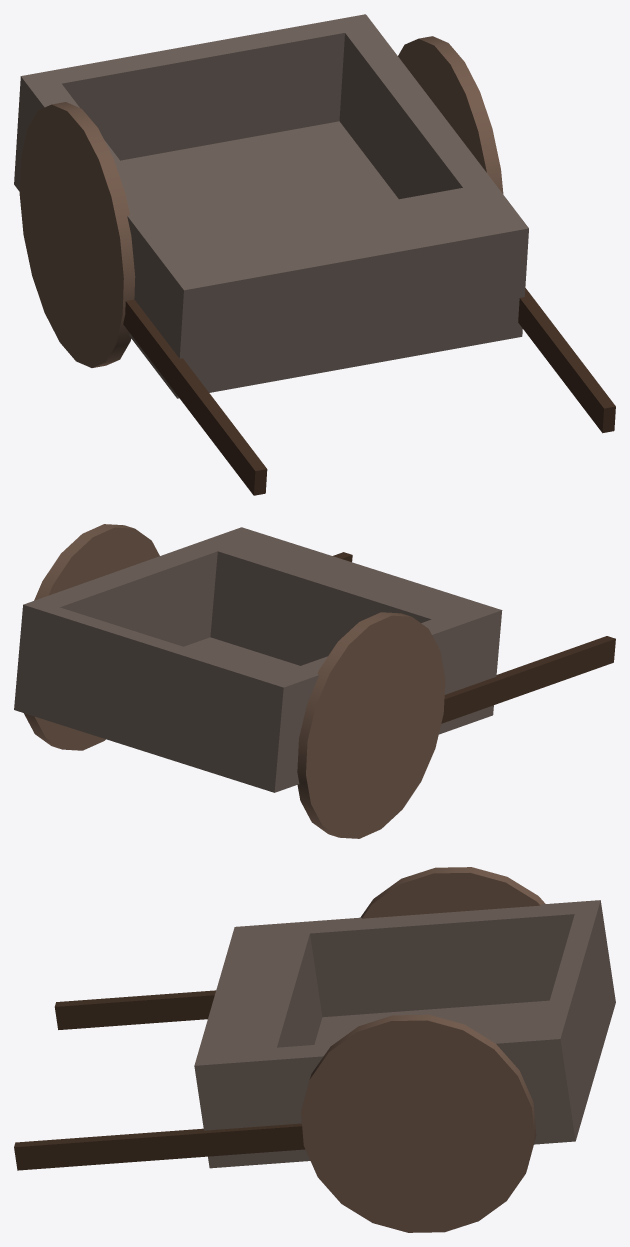
File: cart.fbx
The picture shows the model from 3 angles, top to bottom: view 1: azimuth 30°, elevation 25°; view 2: azimuth 150°, elevation 25°; view 3: azimuth 270°, elevation 25°; orthographic projection. The views are drawn at different scales.
Parts seen in each view (by area): view 1: pCylinder69; view 2: pCylinder69; view 3: pCylinder69.
Part boxes in pixels (bbox=[...]): pCylinder69: bbox=[14, 14, 615, 495]; pCylinder69: bbox=[14, 524, 615, 838]; pCylinder69: bbox=[14, 867, 615, 1232].
Bounding box in the file's own units: 4.89 × 2.71 × 6.93.
